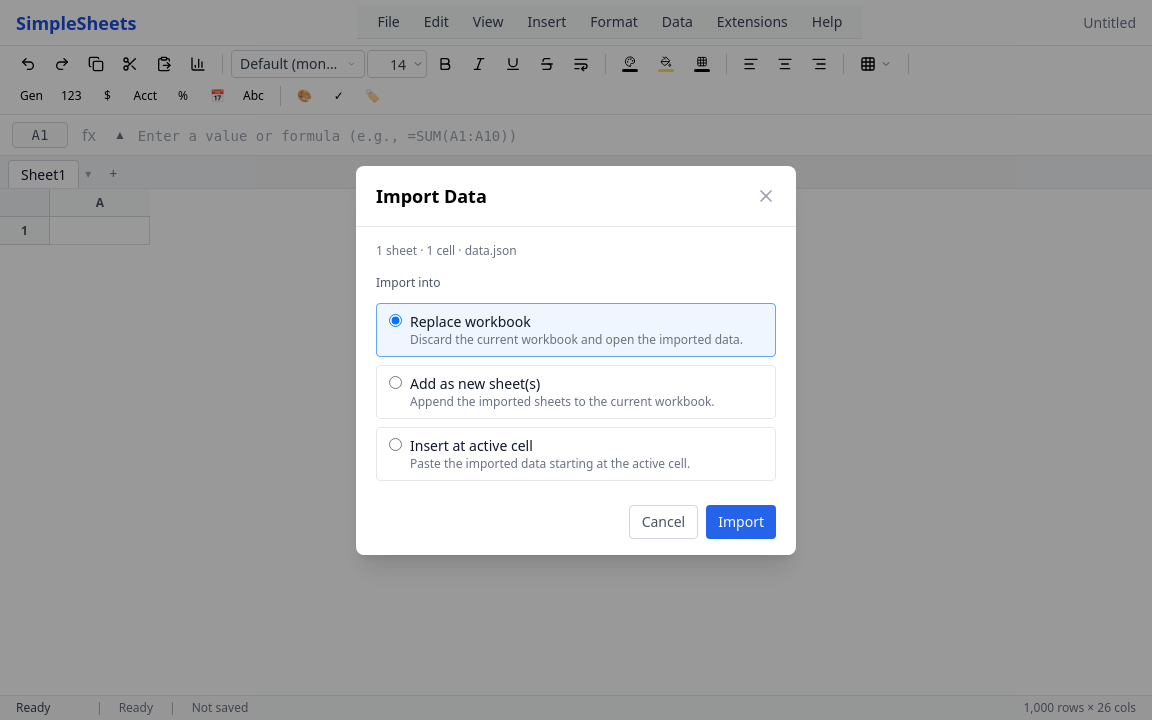
App import scope dialog › cancels the scope dialog without changing the workbook
Earlier steps of the test are not shown.
Step 1. Click the button "Cancel" → (663, 522), box [629,504,698,538]
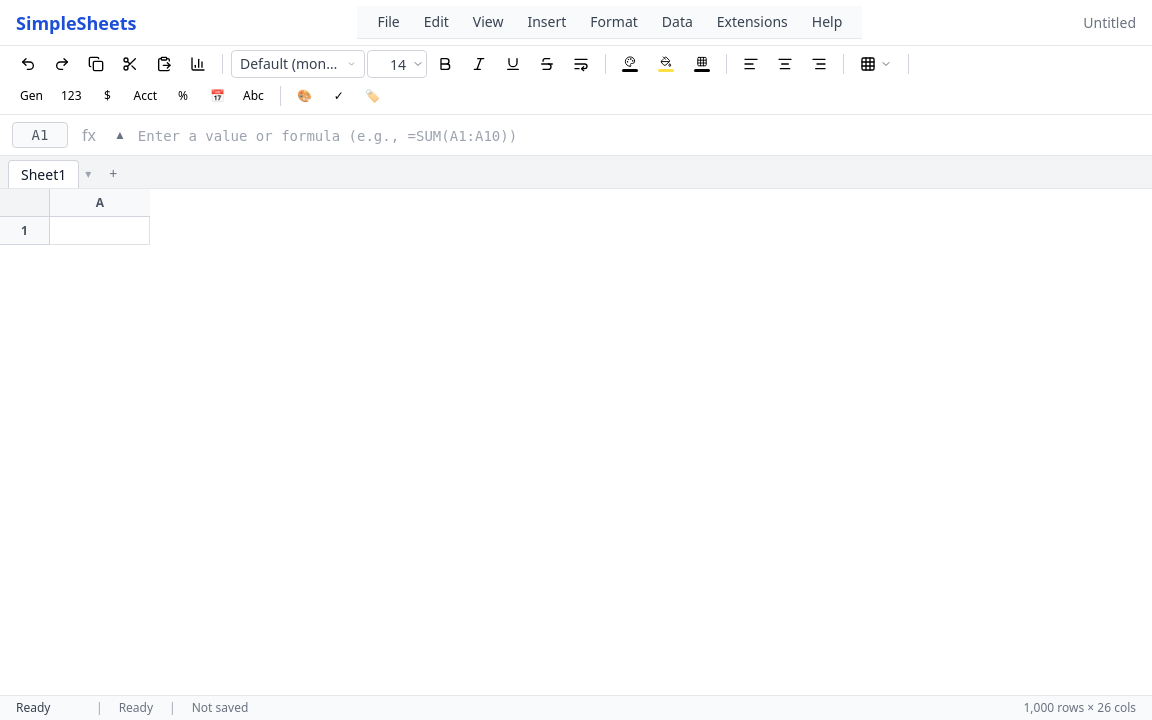
Expected: the heading "Import Data" is gone
Expected: the text with test id "status-message" no longer shows "imported"
